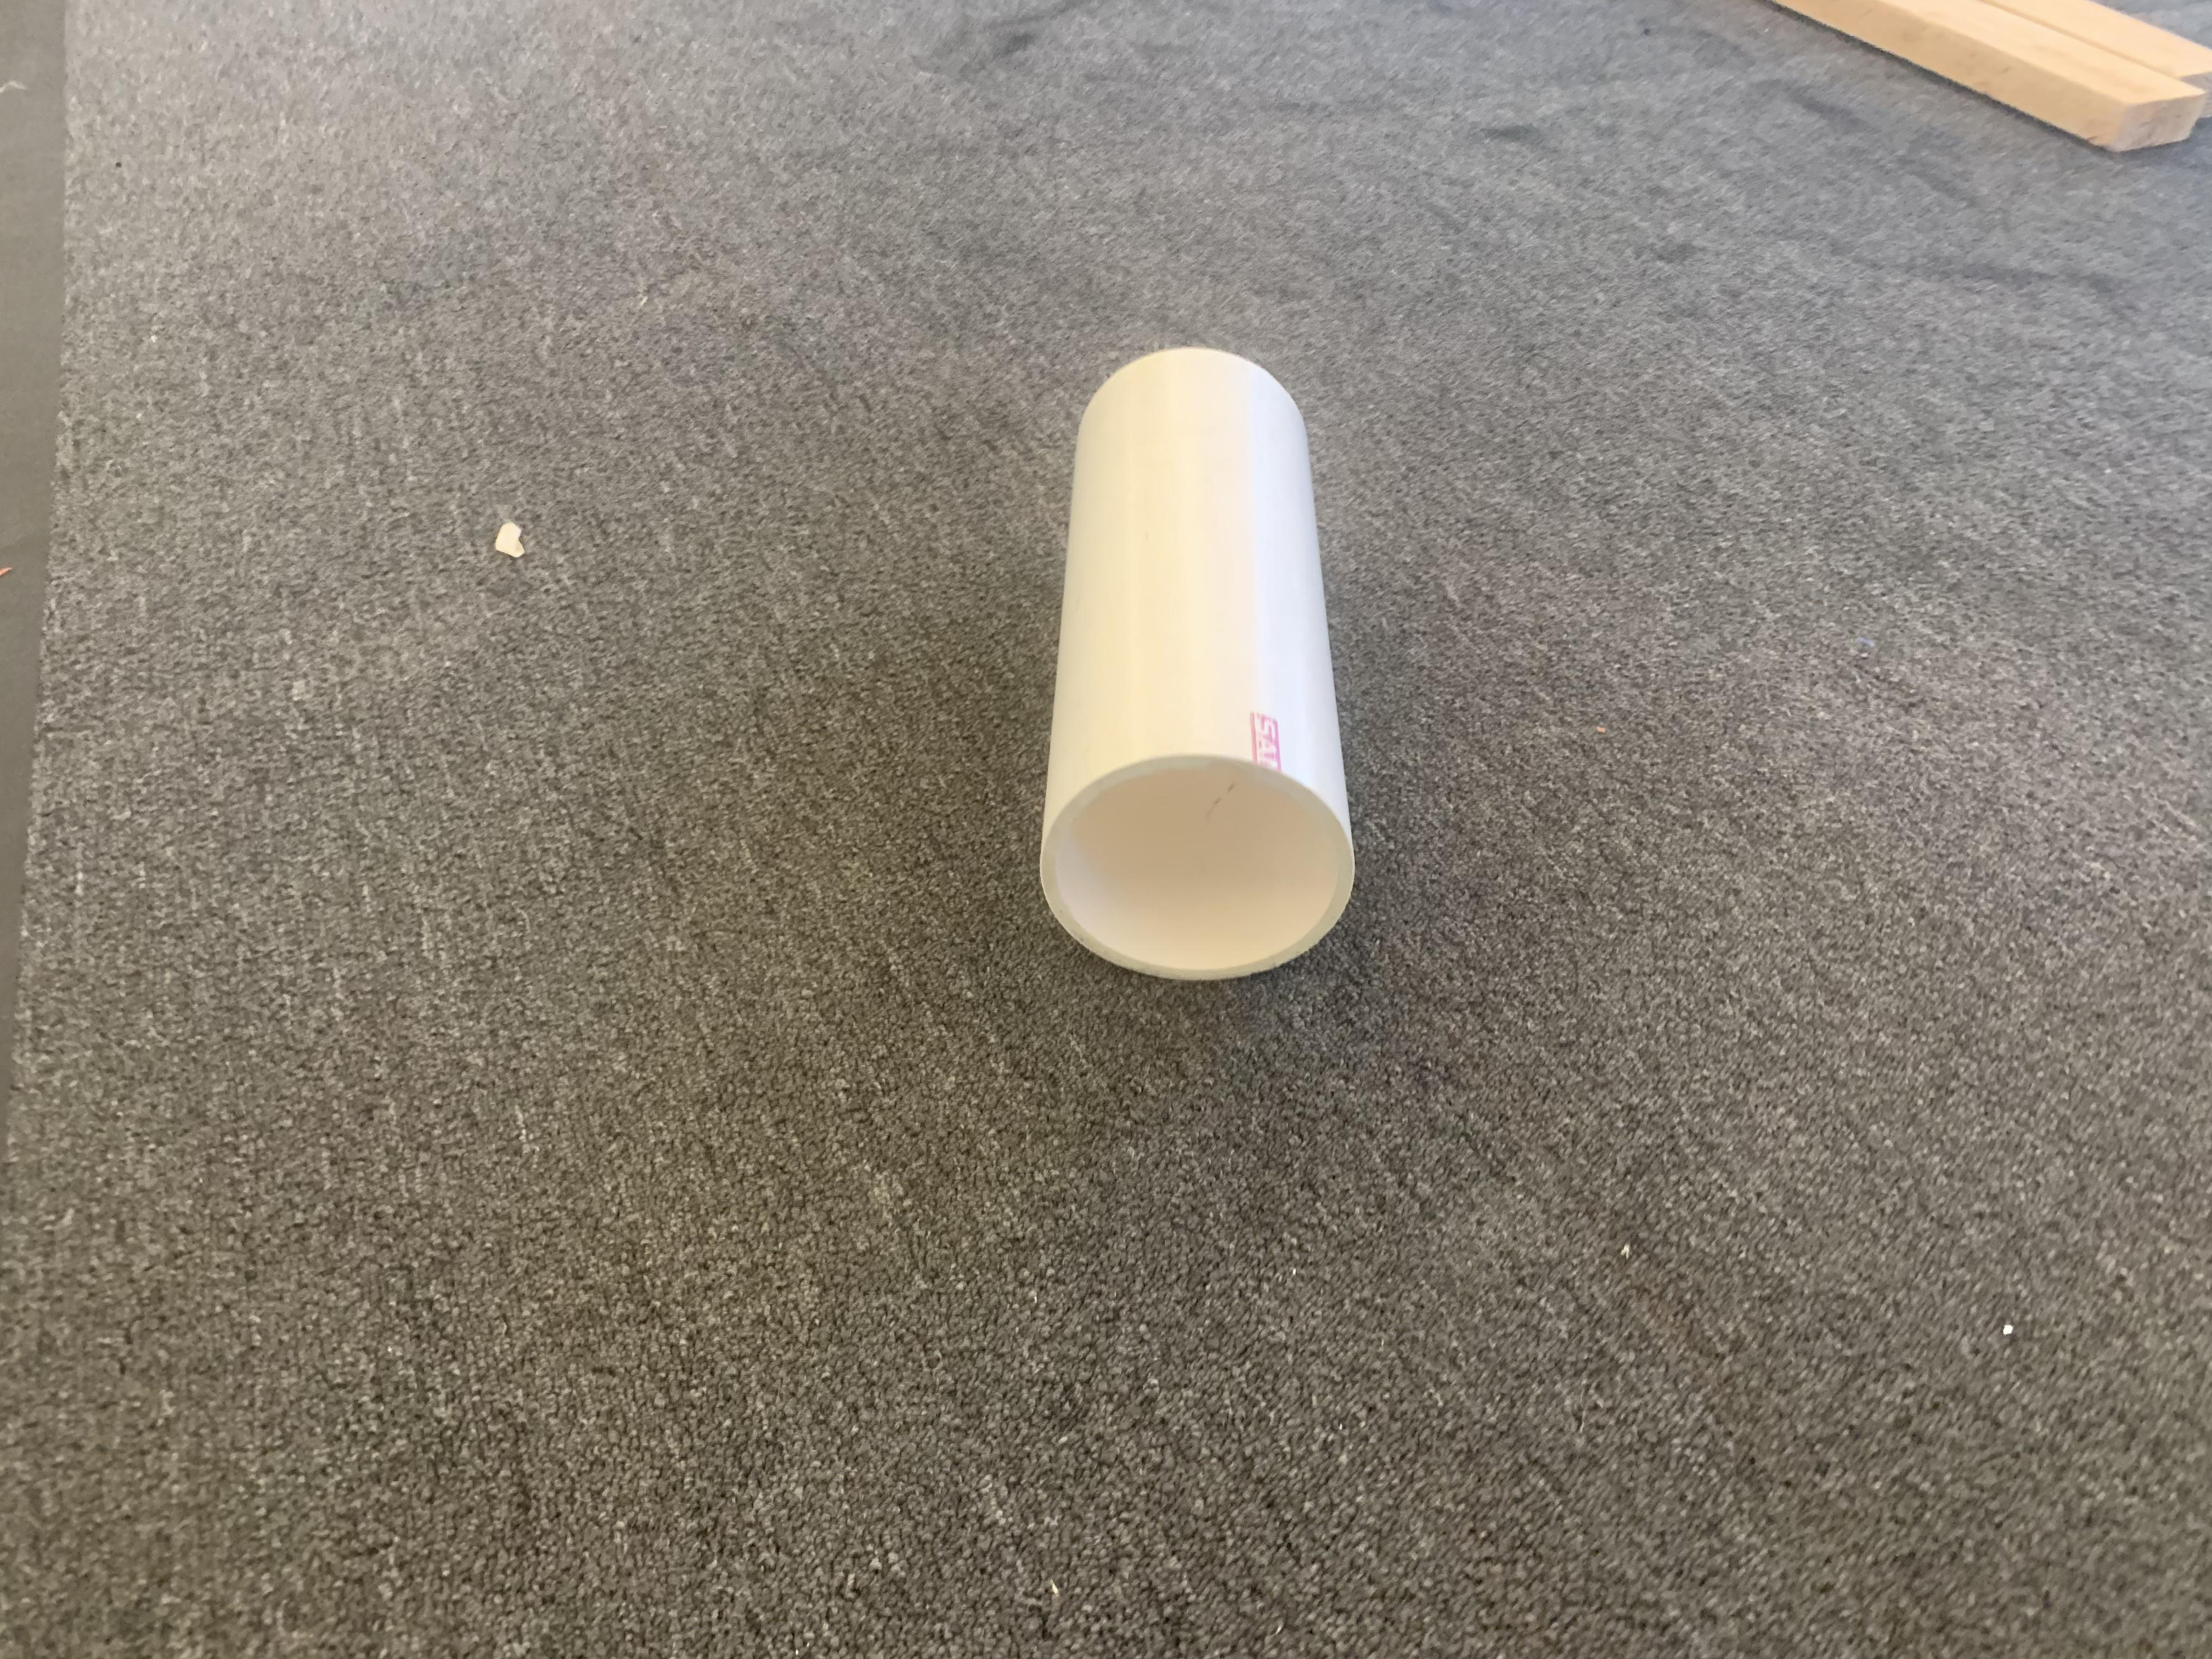coral: (1035, 343, 1359, 983)
